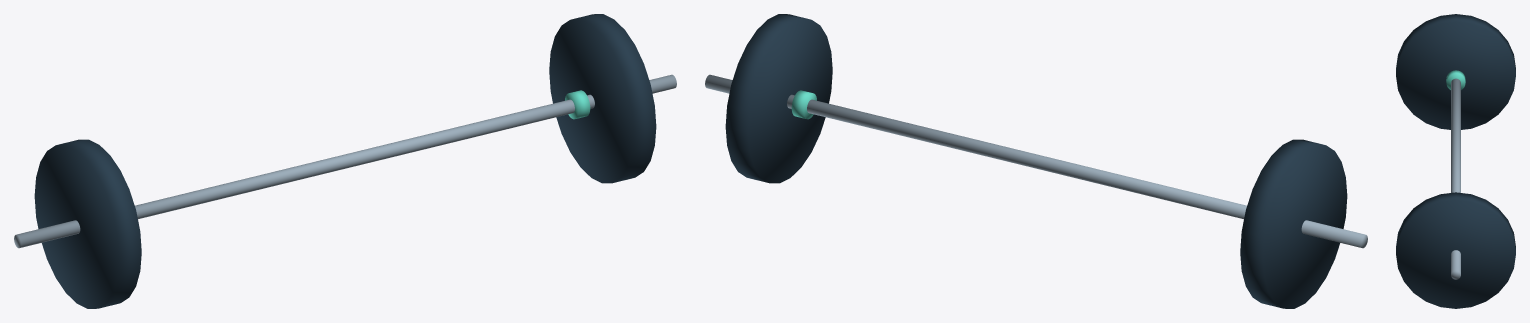
The model's file is barbell_olympic.glb.
The picture shows the model from 3 angles, left to right: view 1: azimuth 30°, elevation 25°; view 2: azimuth 150°, elevation 25°; view 3: azimuth 270°, elevation 25°; orthographic projection. The views are drawn at different scales.
Parts seen in each view (by area): view 1: plates, shaft, collars; view 2: plates, shaft, collars; view 3: plates, shaft, collars.
Boxes of the visible parts, x1,y1,x2,y2 form: plates: [34, 14, 656, 308]; shaft: [14, 74, 676, 248]; collars: [565, 90, 590, 119]; plates: [725, 14, 1347, 308]; shaft: [705, 74, 1367, 248]; collars: [791, 90, 816, 119]; plates: [1396, 14, 1515, 308]; shaft: [1451, 78, 1460, 279]; collars: [1446, 70, 1465, 89].
Bounding box in the file's own units: 1.3 × 0.29 × 0.29.
